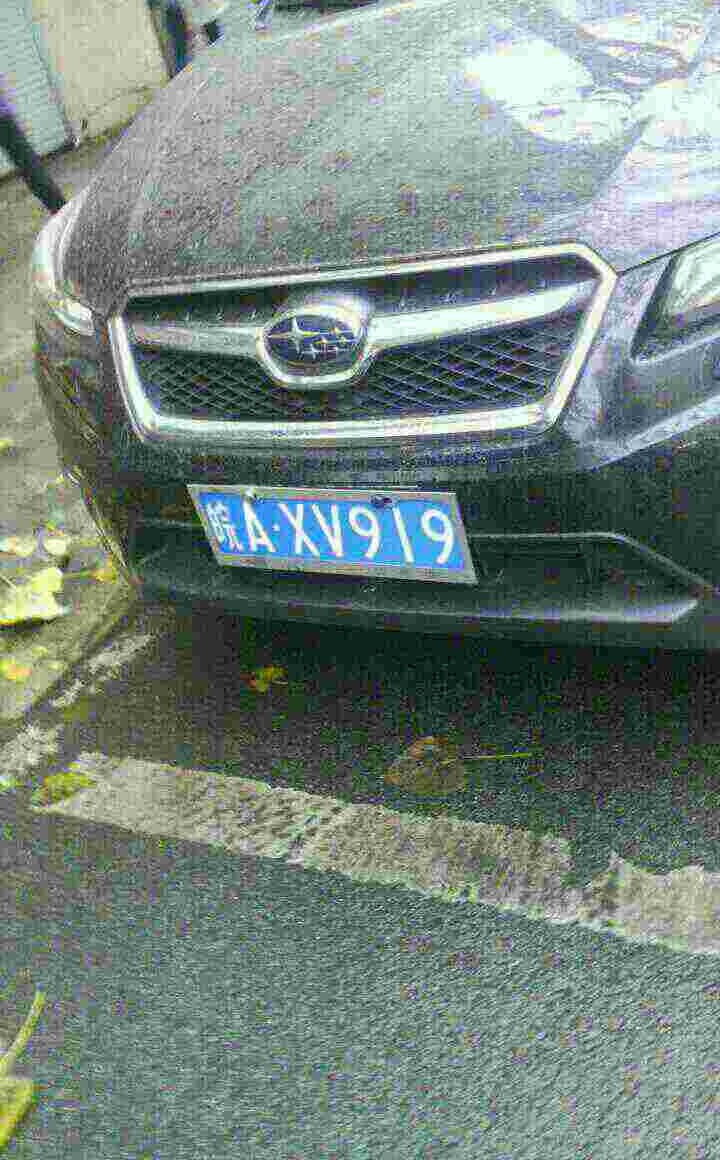license_plate: (210, 495, 464, 564)
